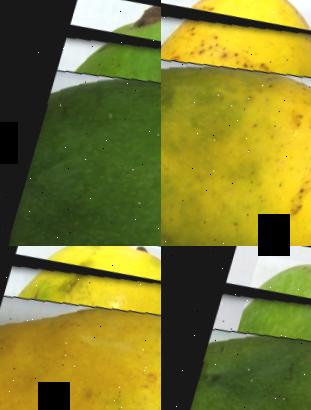PartiallyRipe: (161, 0, 311, 246)
Ripe: (0, 246, 161, 410)
Unripe: (0, 9, 161, 246), (161, 269, 311, 410)
